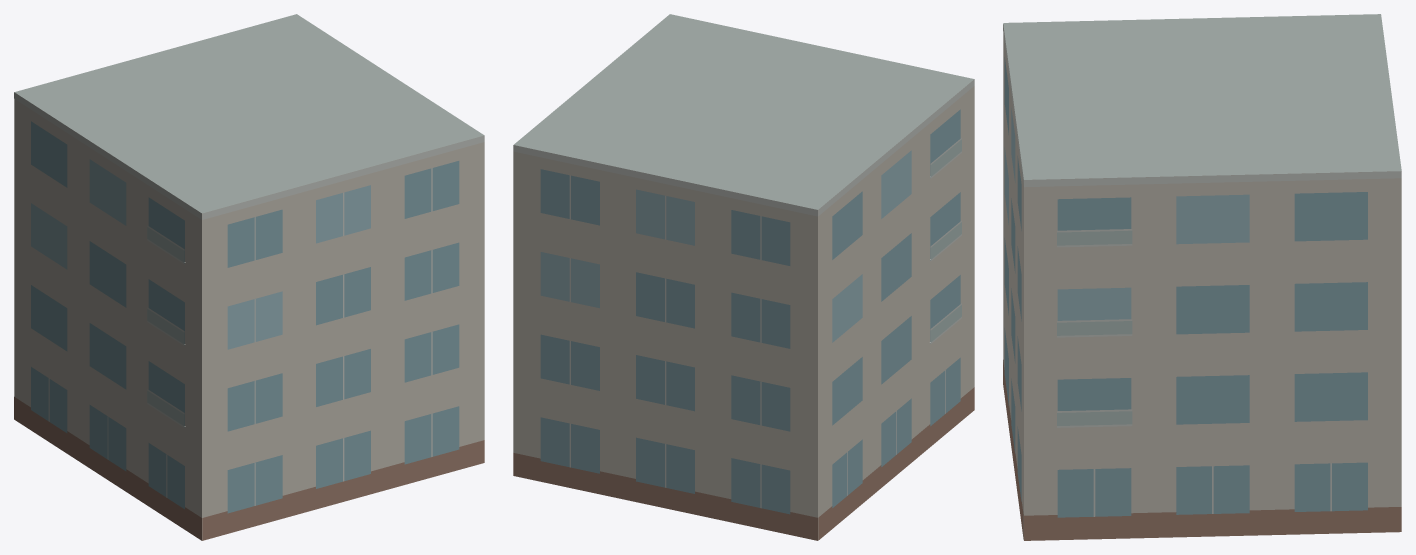
File: residential-7fc8902a-ad69-45f8-95e6-49b2a15337cc.glb
The picture shows the model from 3 angles, left to right: view 1: azimuth 30°, elevation 25°; view 2: azimuth 150°, elevation 25°; view 3: azimuth 270°, elevation 25°; orthographic projection. The views are drawn at different scales.
Parts seen in each view (by area): view 1: residential-7fc8902a-ad69-45f8-95e6-49b2a15337cc.tmp; view 2: residential-7fc8902a-ad69-45f8-95e6-49b2a15337cc.tmp; view 3: residential-7fc8902a-ad69-45f8-95e6-49b2a15337cc.tmp.
Part boxes in pixels (x1=…): residential-7fc8902a-ad69-45f8-95e6-49b2a15337cc.tmp: x1=14, y1=14, x2=484, y2=540; residential-7fc8902a-ad69-45f8-95e6-49b2a15337cc.tmp: x1=513, y1=14, x2=974, y2=540; residential-7fc8902a-ad69-45f8-95e6-49b2a15337cc.tmp: x1=1003, y1=14, x2=1401, y2=540.
Size of the model in its own units: 12.04 by 12.2 by 12.22.
